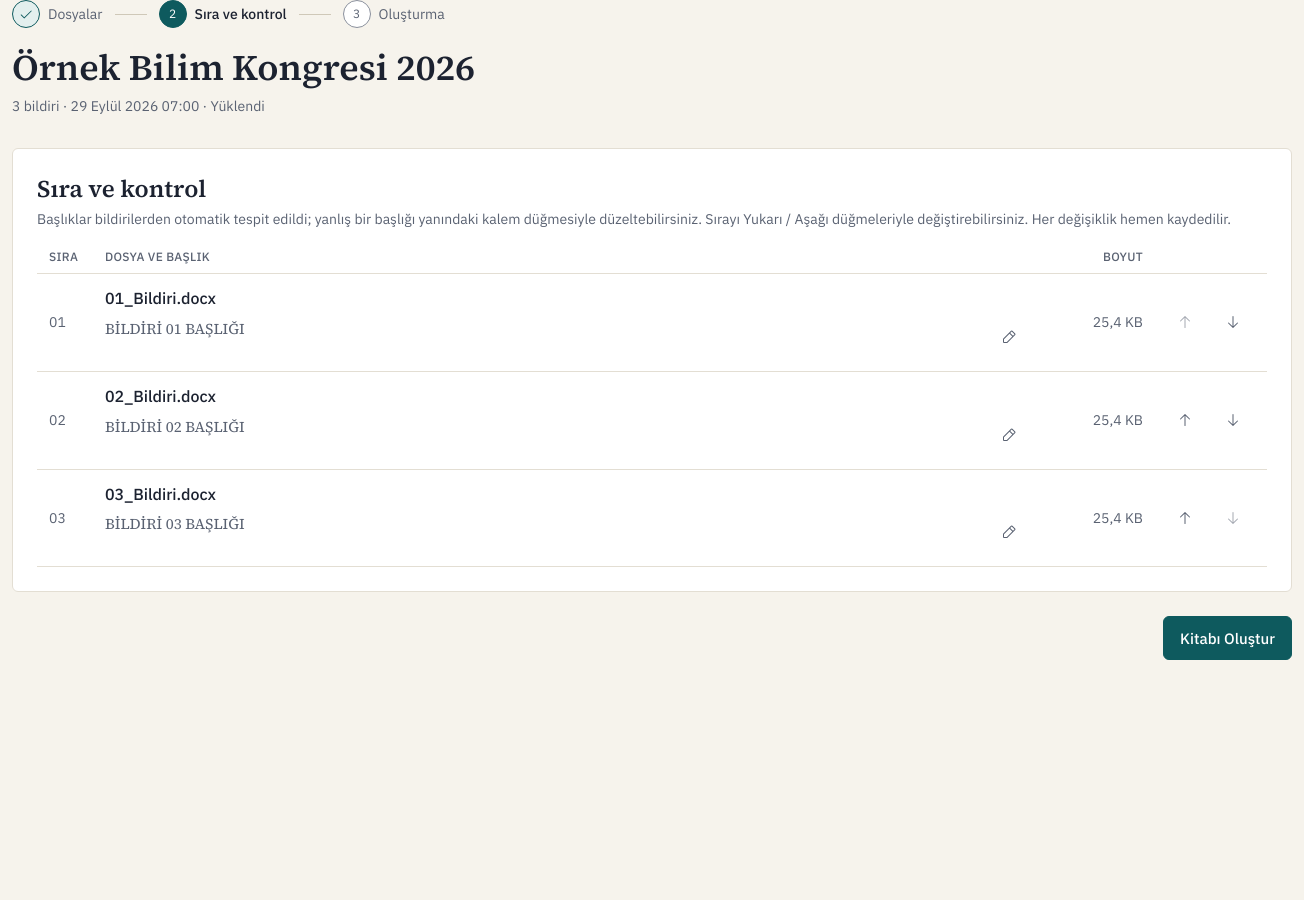
Test: BookPage — order step › rolls the order back and explains when saving fails
Click the button named "02_Bildiri.docx dosyasını yukarı taşı" at (1185, 420), box top-left (1163, 398), bottom-right (1207, 442)
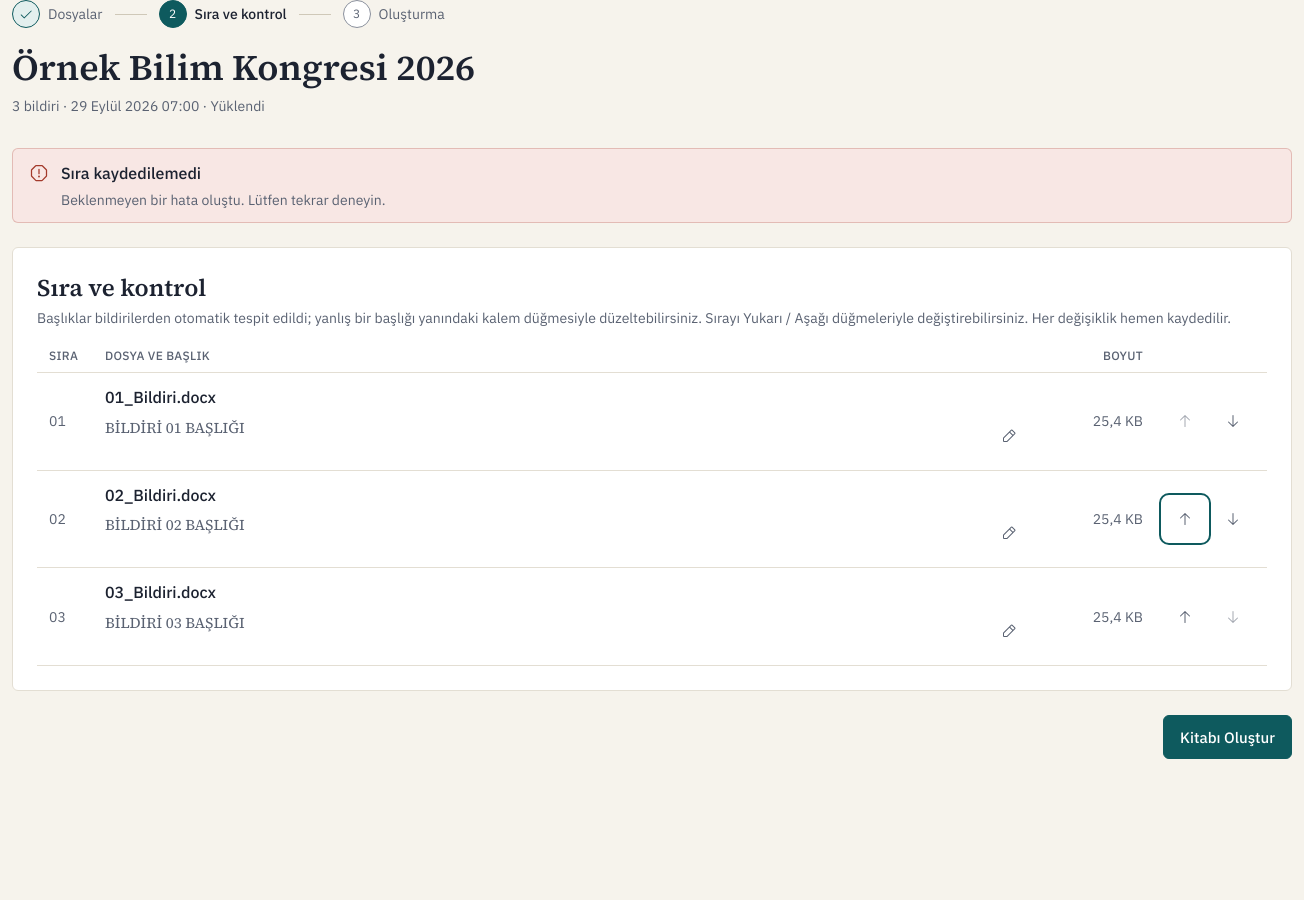
Result: the message shows "Sıra kaydedilemedi" at top-left (61, 163), bottom-right (201, 183)
